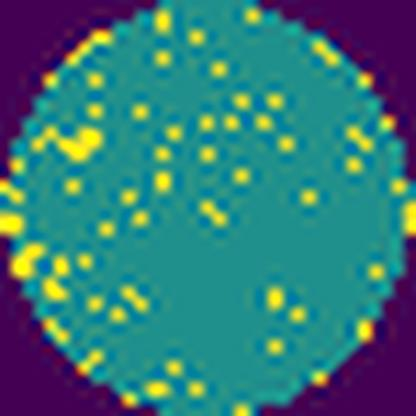Loc: (36, 122, 104, 160)
